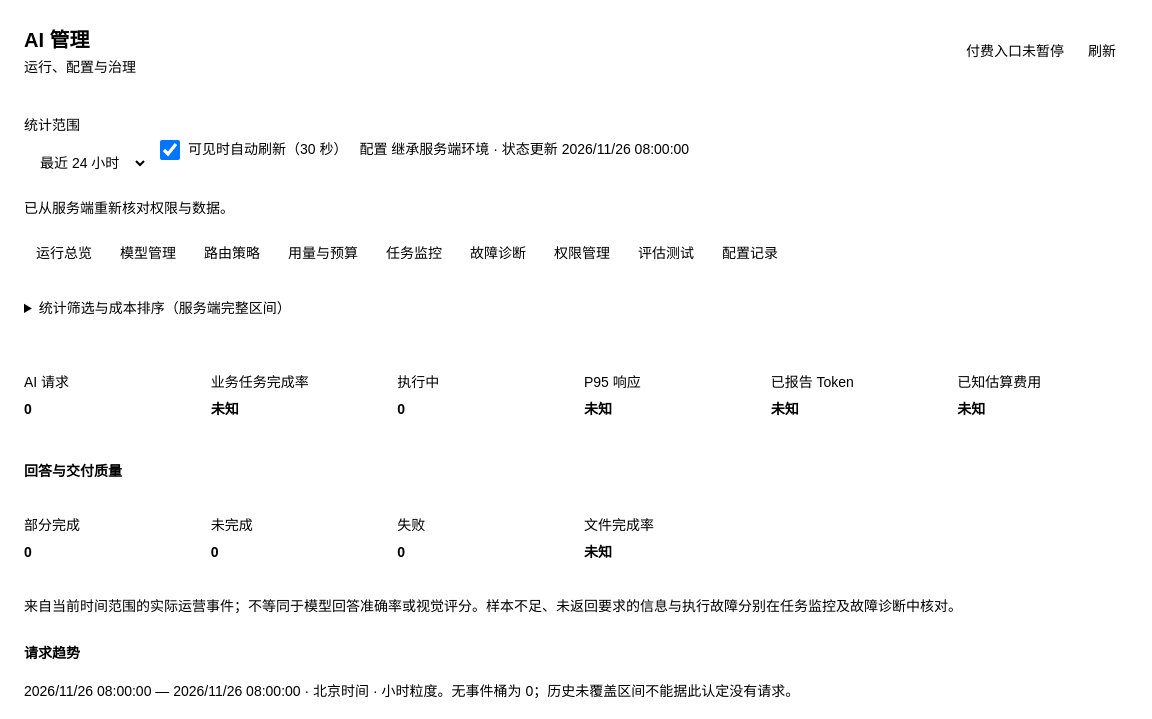
Test: AI management workspace lifecycle and safe states › clears cached management data on revocation, and cancels the outstanding scope on unmount
This screenshot has width=1152, height=719.
expect the text "AI 请求" is shown: met, box [24,374,69,390]
Click the button "刷新" at point(1102, 51), box [1076,29,1128,73]
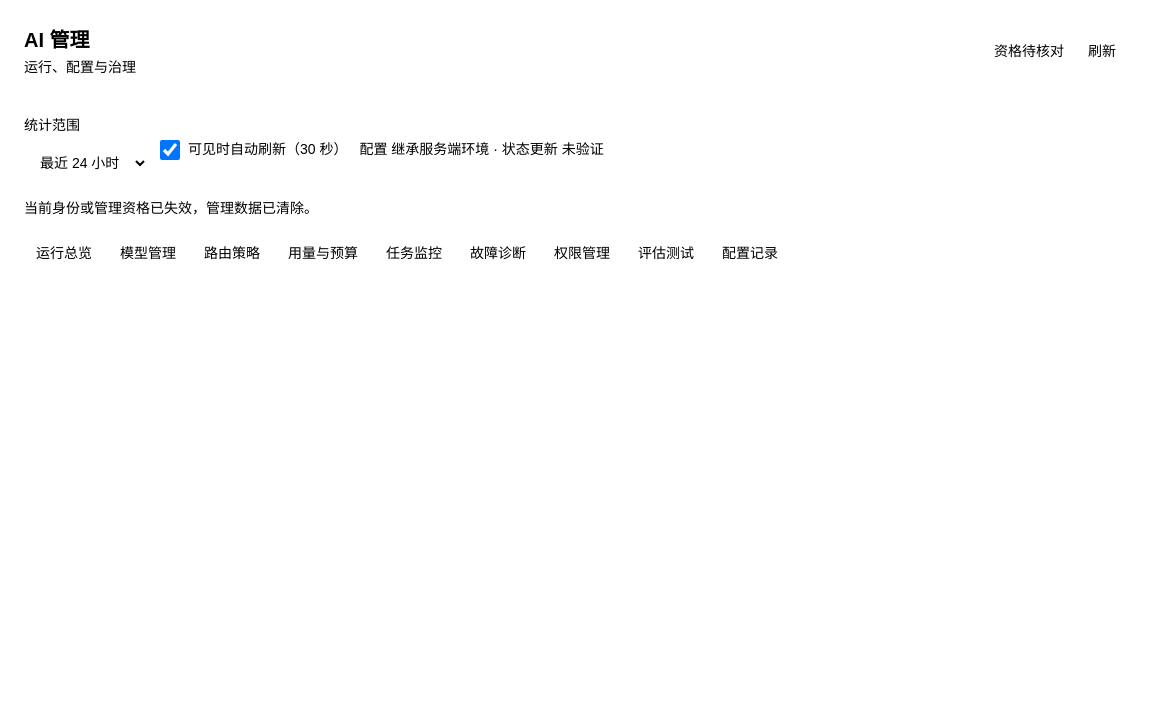
expect the text "当前身份或管理资格已失效，管理数据已清除。" is shown: met, box [24,200,318,216]
expect the text "AI 请求" is gone: met
